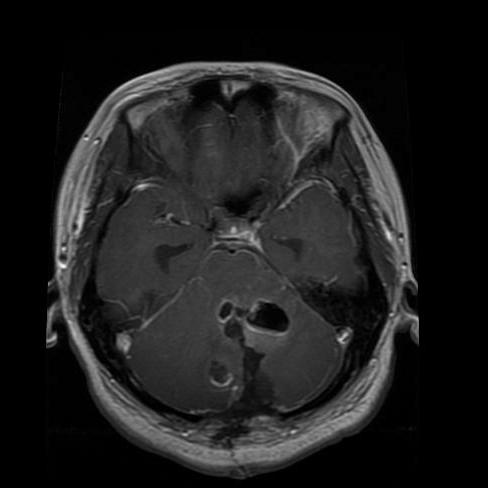Tumour-Glioma: (198, 352, 248, 389)
